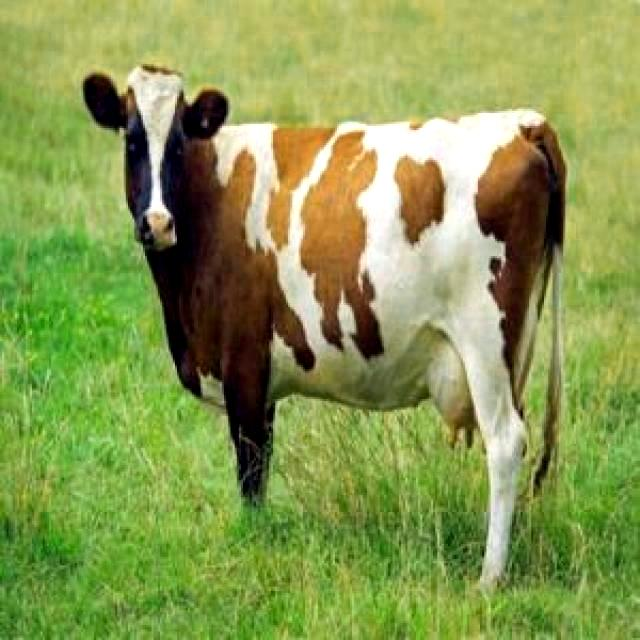COW: (84, 65, 566, 588)
